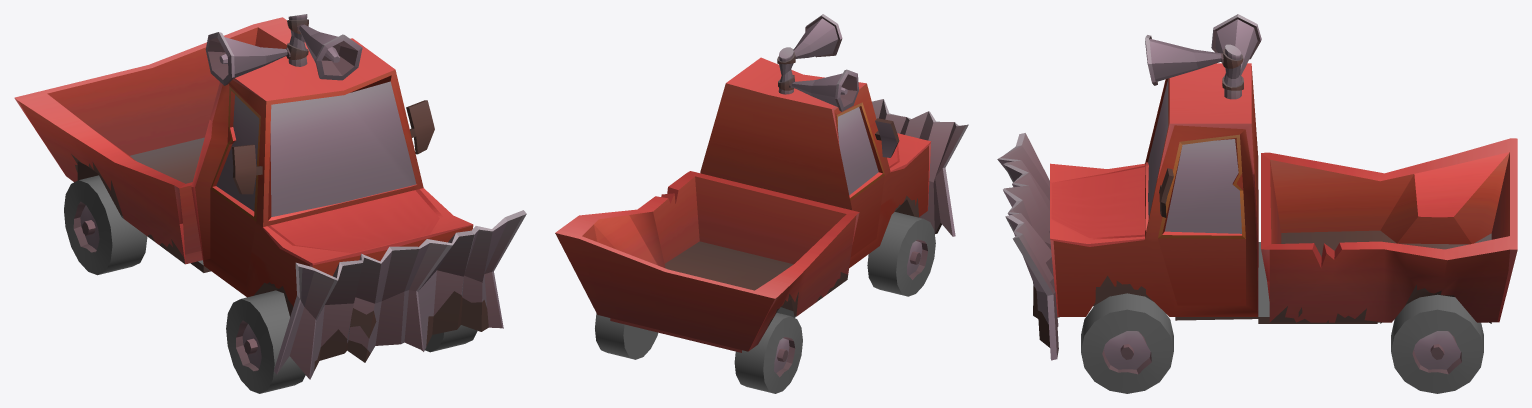
The model's file is Camion_bandit.fbx.
3 views of the same model, side by side, from view 1: azimuth 30°, elevation 25°; view 2: azimuth 150°, elevation 25°; view 3: azimuth 270°, elevation 25° (orthographic). The views are drawn at different scales.
Parts seen in each view (by area): view 1: Cabine, Benne, Taule, Portiere_droite, Tyre_F_L.002, Tyre_F_L.006, Haut-parleurs, Tyre_F_L.003; view 2: Benne, Cabine, Portiere_droite, Tyre_F_L.002, Taule, Haut-parleurs, Tyre_F_L.006, Tyre_F_L.001; view 3: Benne, Cabine, Portiere_droite.001, Tyre_F_L.003, Tyre_F_L.001, Taule, Haut-parleurs.
Part boxes in pixels (x1,y1,x2,y2): Cabine: [190, 38, 473, 316]; Benne: [14, 17, 308, 264]; Taule: [274, 210, 526, 379]; Portiere_droite: [210, 86, 260, 284]; Tyre_F_L.002: [226, 290, 305, 393]; Tyre_F_L.006: [64, 175, 147, 275]; Haut-parleurs: [205, 14, 362, 85]; Tyre_F_L.003: [425, 325, 477, 352]; Benne: [555, 171, 859, 352]; Cabine: [700, 57, 931, 267]; Portiere_droite: [836, 102, 884, 257]; Tyre_F_L.002: [867, 212, 935, 296]; Taule: [872, 99, 968, 236]; Haut-parleurs: [777, 14, 858, 111]; Tyre_F_L.006: [734, 313, 802, 393]; Tyre_F_L.001: [595, 313, 658, 359]; Benne: [1261, 138, 1517, 323]; Cabine: [1050, 63, 1377, 323]; Portiere_droite.001: [1158, 134, 1245, 305]; Tyre_F_L.003: [1081, 293, 1173, 393]; Tyre_F_L.001: [1391, 294, 1483, 393]; Taule: [997, 133, 1059, 360]; Haut-parleurs: [1145, 14, 1261, 99].
Bounding box in the file's own units: 3.71 × 4.15 × 6.34.
